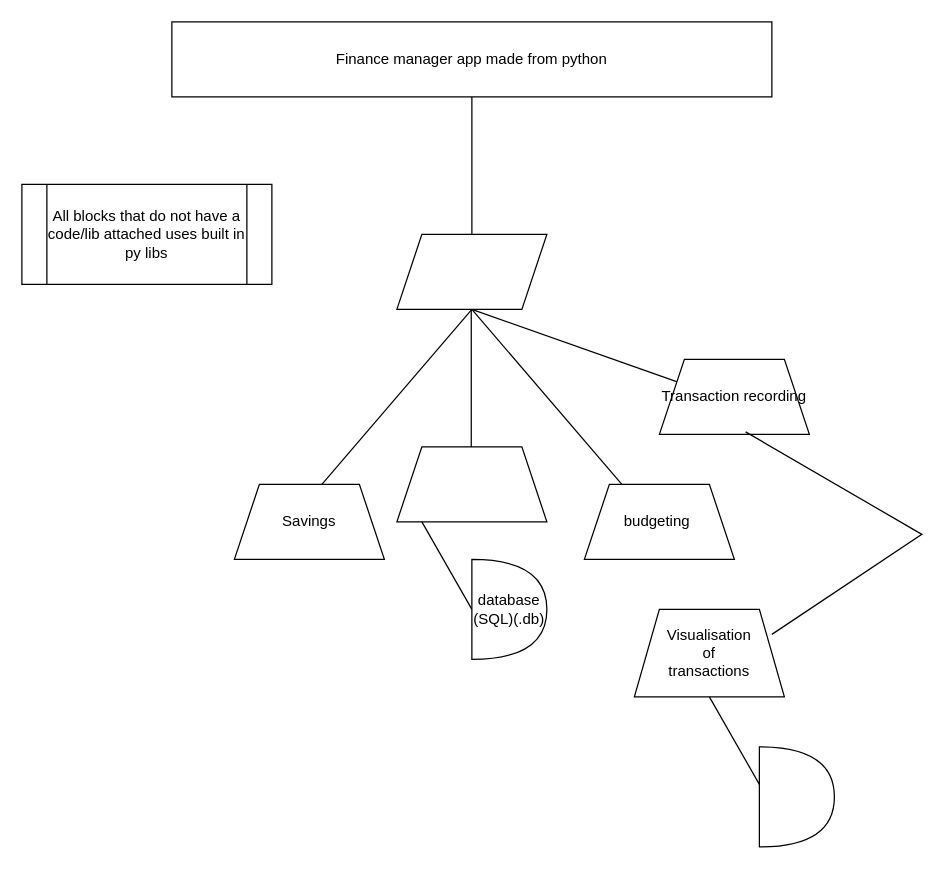
This 945x869 diagram has some shape labels left out. The shapes that lost their labels are listed below. From the top down, each one's centre as x and y in pixels, then its label:
point 471,271: what it should do
point 471,484: Saves data
point 796,796: Tkinter
